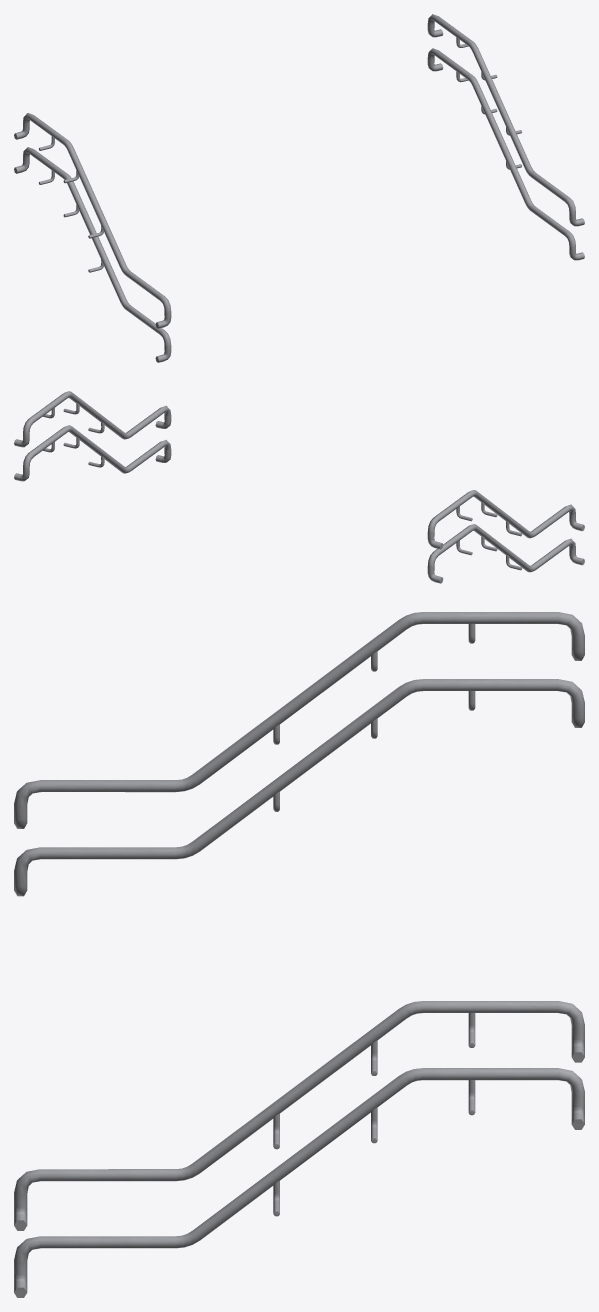
Rendered from gteki_ik_stair_n3_r167_t202_w2436_rails_wall.glb.
3 renders of one model, top to bottom at view 1: azimuth 30°, elevation 25°; view 2: azimuth 150°, elevation 25°; view 3: azimuth 270°, elevation 25°, orthographic. The views are drawn at different scales.
Parts seen in each view (by area): view 1: VIS_handrails, VIS_rail_supports; view 2: VIS_handrails, VIS_rail_supports; view 3: VIS_handrails, VIS_rail_supports.
Part boxes in pixels (x1,y1,x2,y2): VIS_handrails: (14, 14, 584, 362); VIS_rail_supports: (39, 37, 521, 272); VIS_handrails: (14, 391, 584, 583); VIS_rail_supports: (43, 403, 522, 570); VIS_handrails: (14, 612, 584, 1297); VIS_rail_supports: (273, 623, 475, 1216).
Size of the model in its own units: 2.66 by 0.8546 by 1.54.
1 material, 1 textured.
